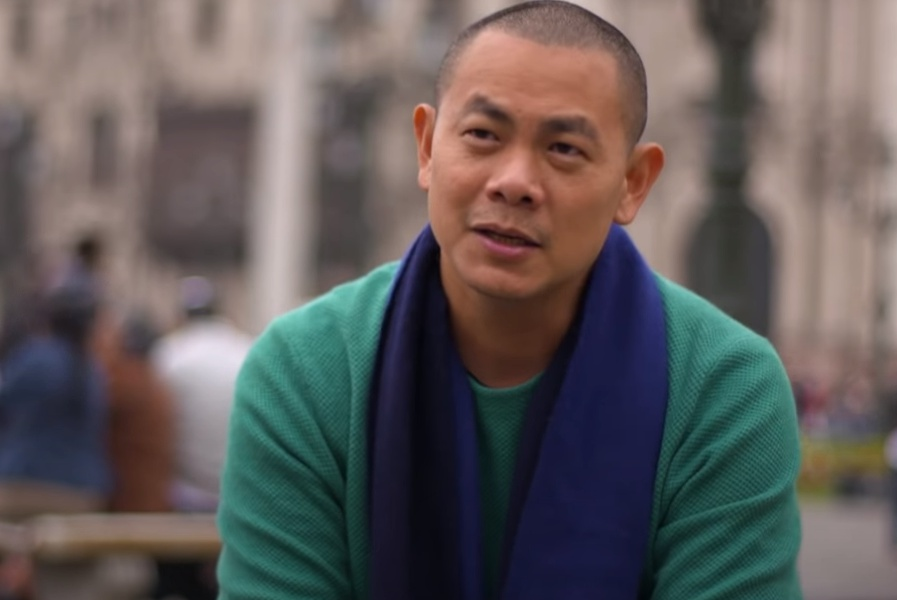mouth: (467, 219, 544, 257)
nose: (482, 176, 543, 204)
